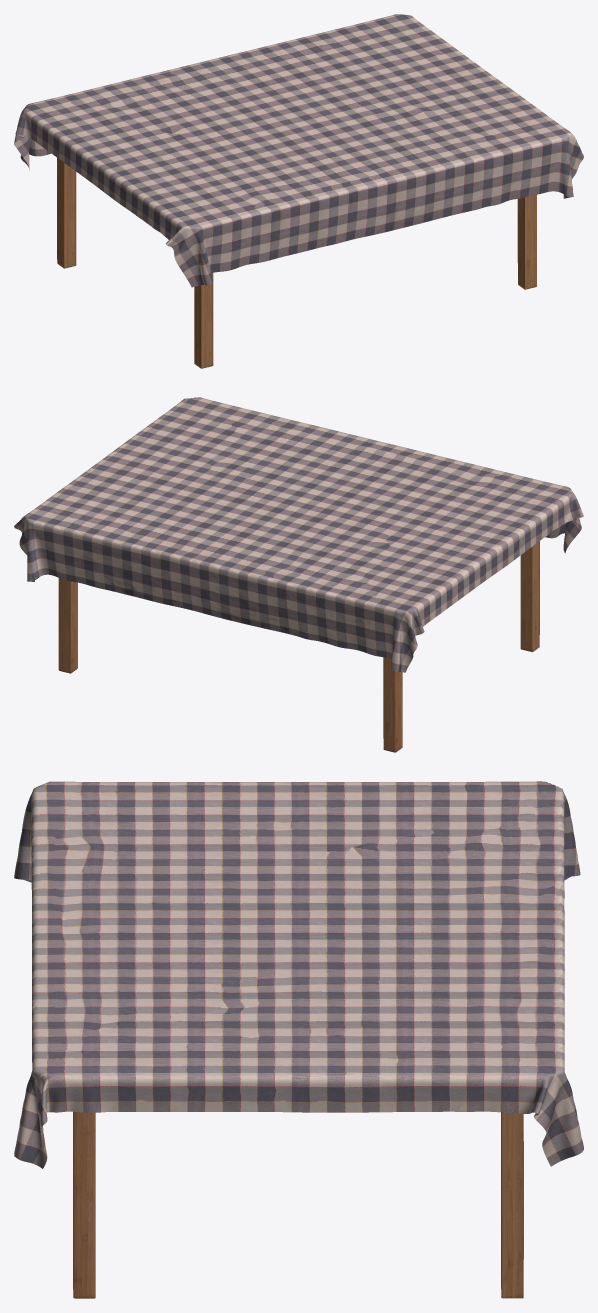
The model's file is table-8.glb.
The picture shows the model from 3 angles, top to bottom: view 1: azimuth 30°, elevation 25°; view 2: azimuth 150°, elevation 25°; view 3: azimuth 270°, elevation 25°; orthographic projection. The views are drawn at different scales.
Visible parts, largest first — view 1: Object_2, Object_3; view 2: Object_2, Object_3; view 3: Object_2, Object_3.
Boxes of the visible parts, box(x1,y1,x2,y2) form: Object_2: box(14, 14, 583, 287); Object_3: box(57, 158, 536, 368); Object_2: box(14, 397, 583, 672); Object_3: box(58, 500, 539, 752); Object_2: box(14, 781, 583, 1168); Object_3: box(73, 805, 523, 1298).
Bounding box in the file's own units: 10.55 × 3.76 × 8.02.
2 materials, 2 textured.
